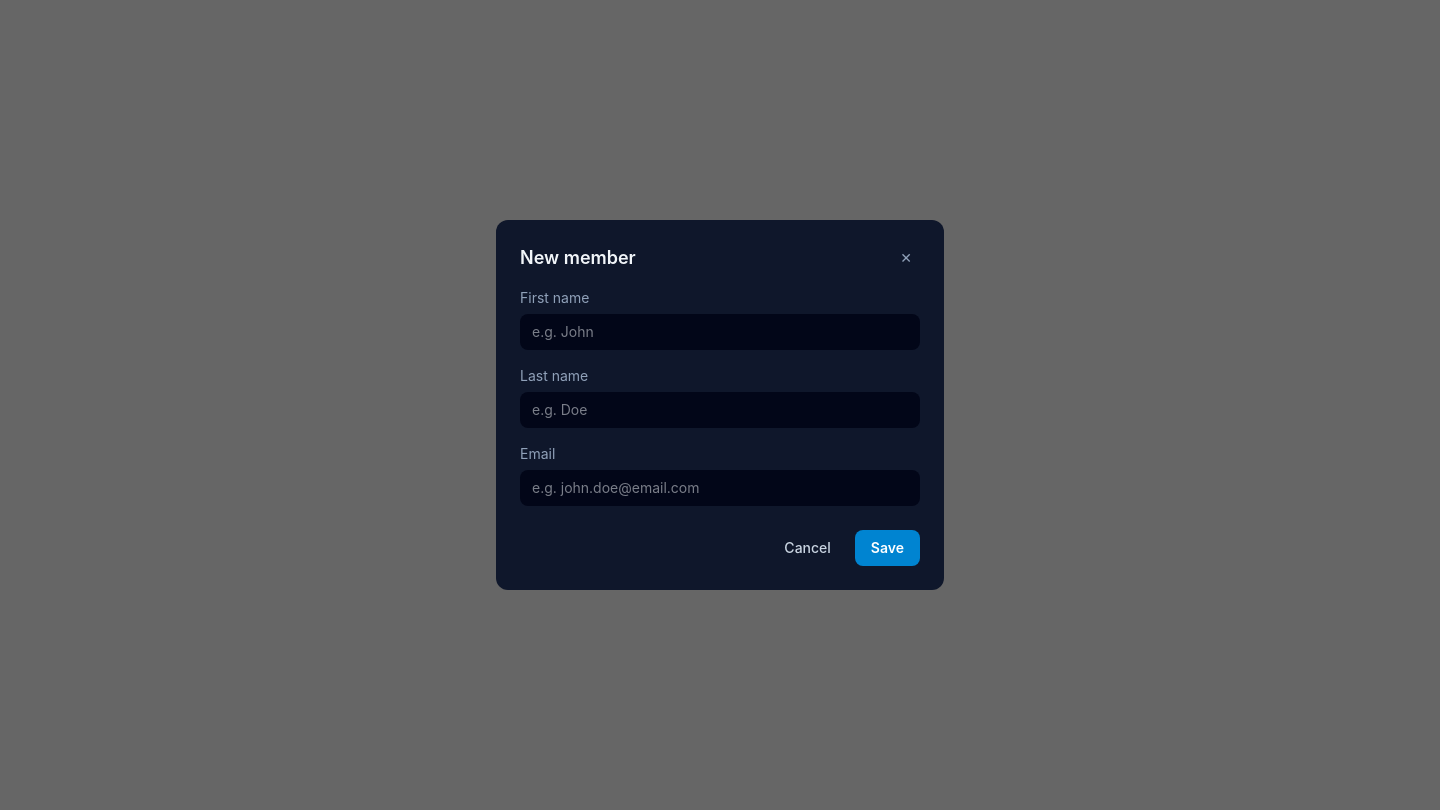
Scenario: AddMemberModal › shows API error message
In the field labelled "First name": [720, 332] box [520,314,920,350], type "John"
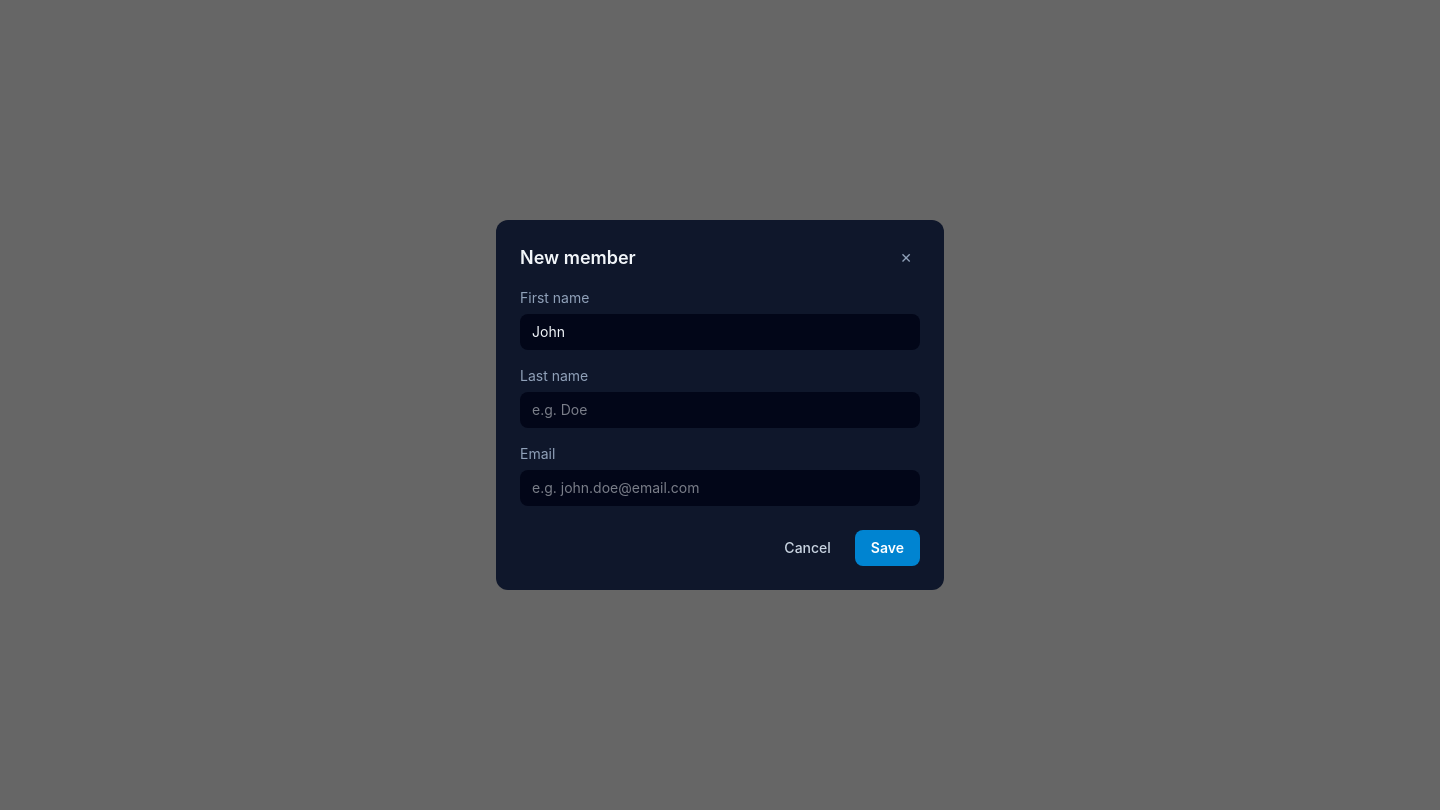
In the field labelled "Last name": [720, 410] box [520,392,920,428], type "Smith"
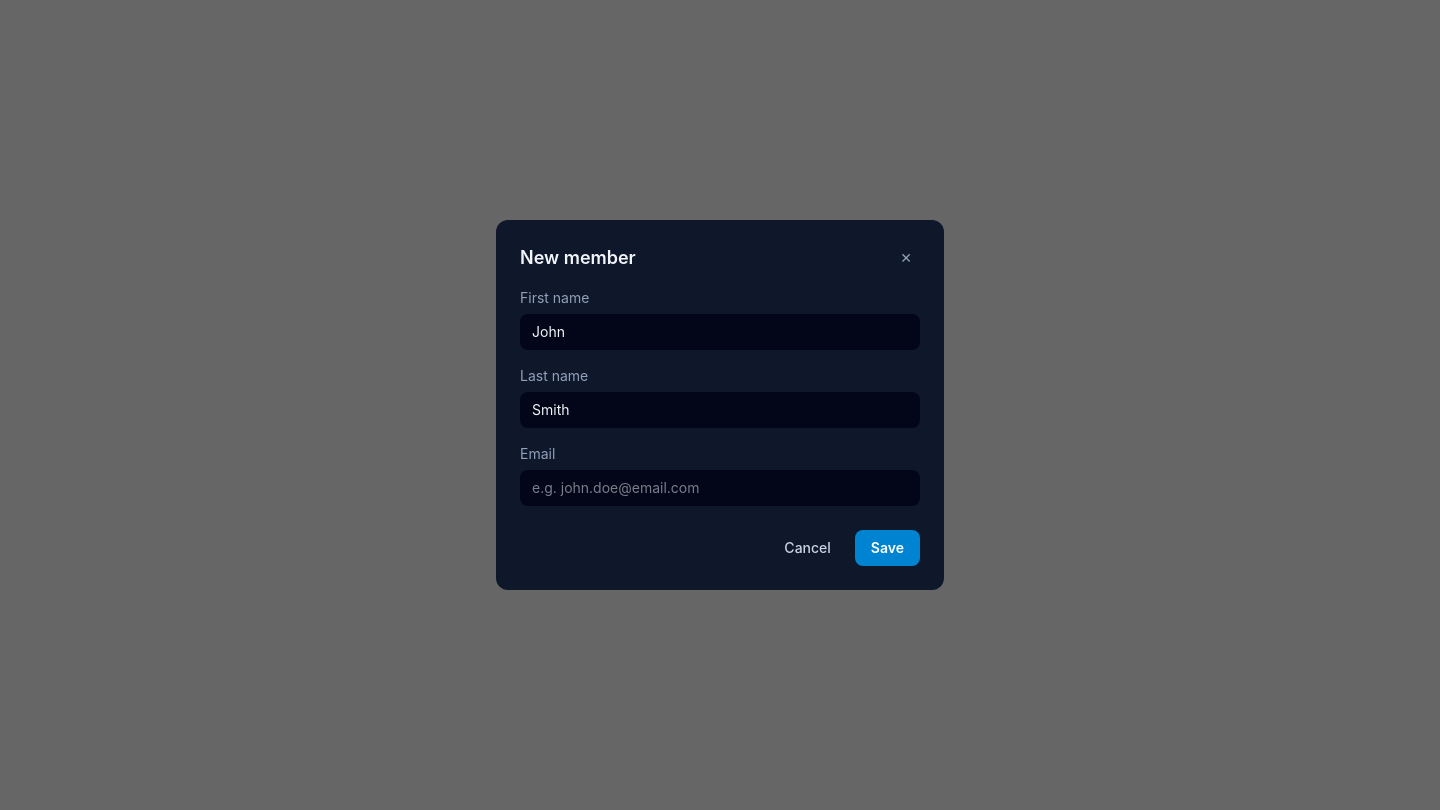
In the field labelled "Email": [720, 488] box [520,470,920,506], type "john@example.com"
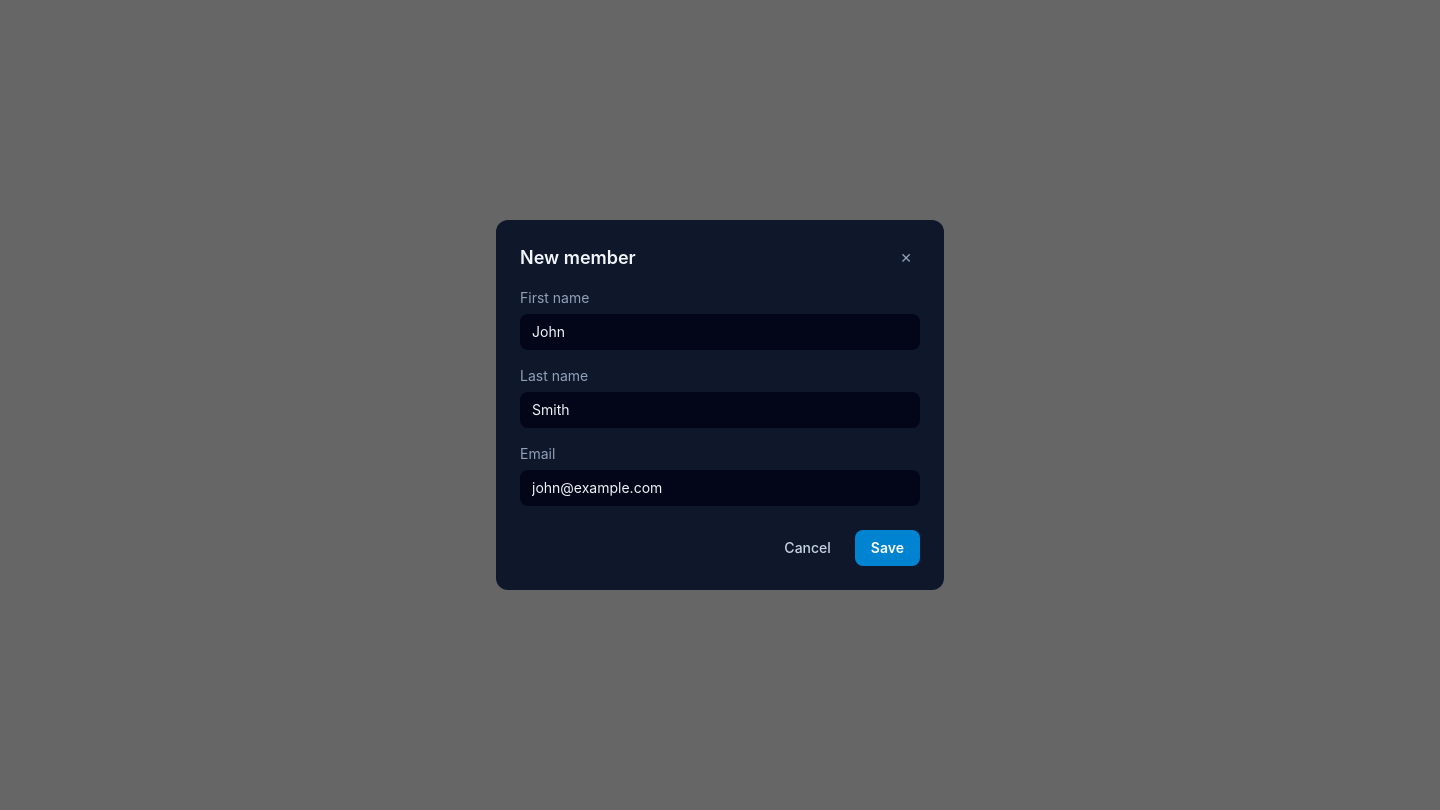
Click the button "Save": [887, 548] box [855,530,920,566]
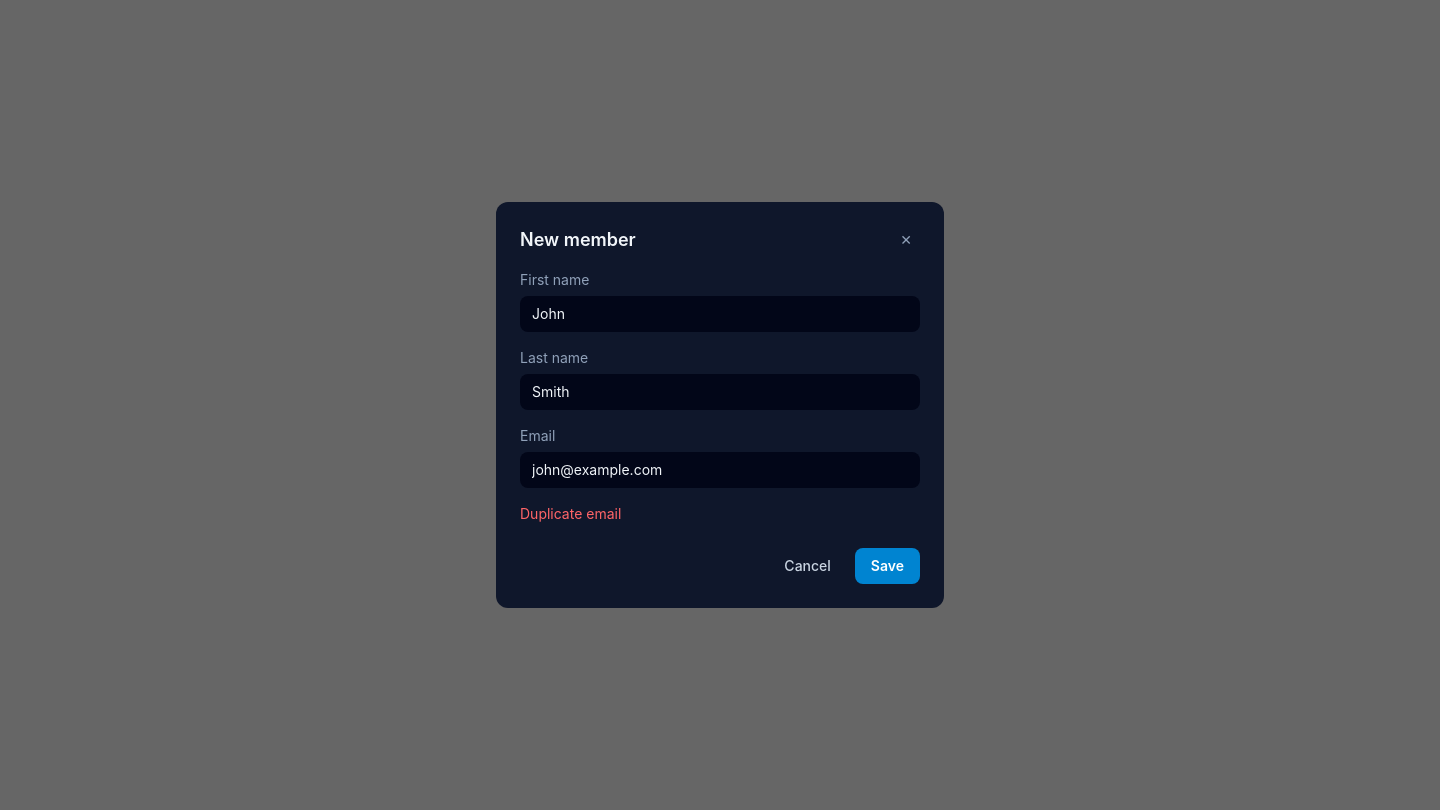
Check: the text "Duplicate email" is shown, box [520,505,621,522]
